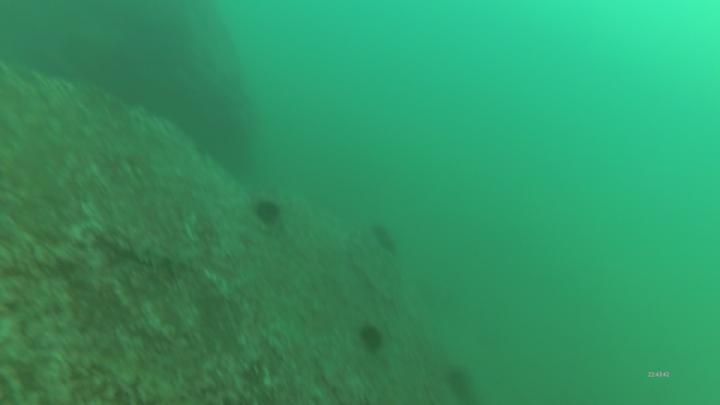echinus: (367, 220, 401, 261), (446, 367, 480, 405), (359, 320, 389, 360), (253, 196, 284, 230)
